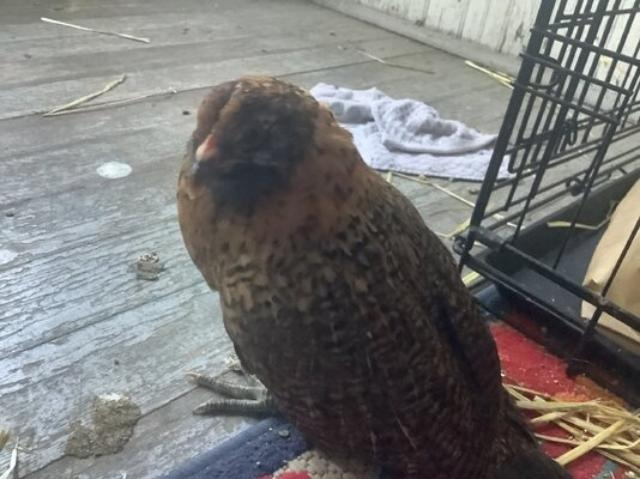Chicken: (176, 73, 575, 479)
